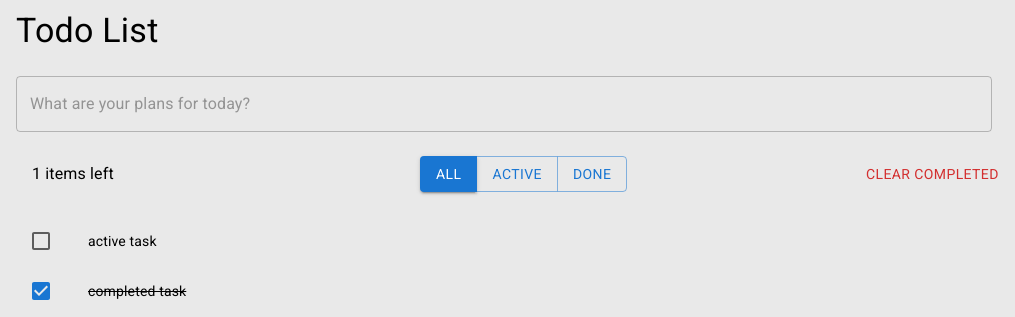
Test case: TodoList › should filter list by status
status "active" button
Click the button "active".
click(517, 174)  # box [476,156,558,192]
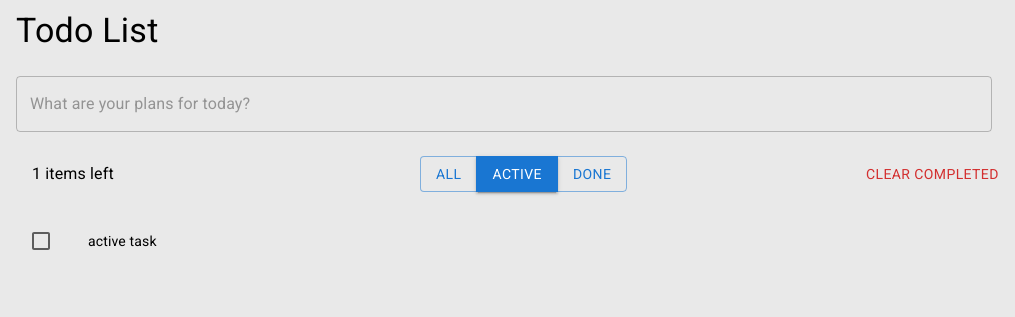
Expected: the text "active task" is shown, [88,234,157,250]
Expected: the text "completed task" is gone
status "done" button
Click the button "done".
click(592, 174)  # box [557,156,627,192]
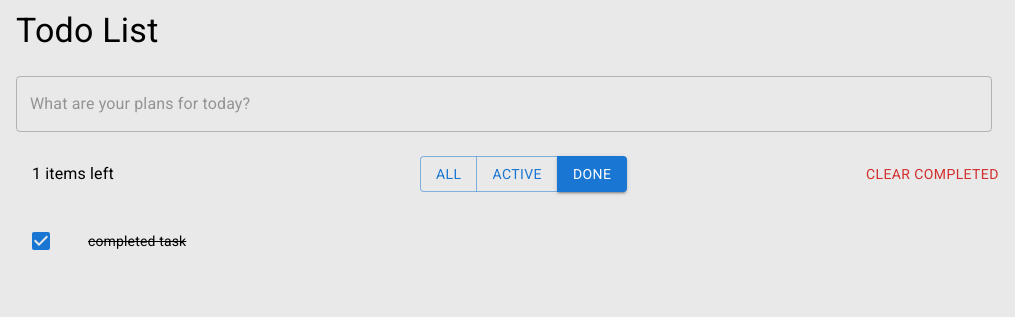
Expected: the text "completed task" is shown, [88,234,186,250]
Expected: the text "active task" is gone
status "active" button
Click the button "all".
click(449, 174)  # box [420,156,478,192]
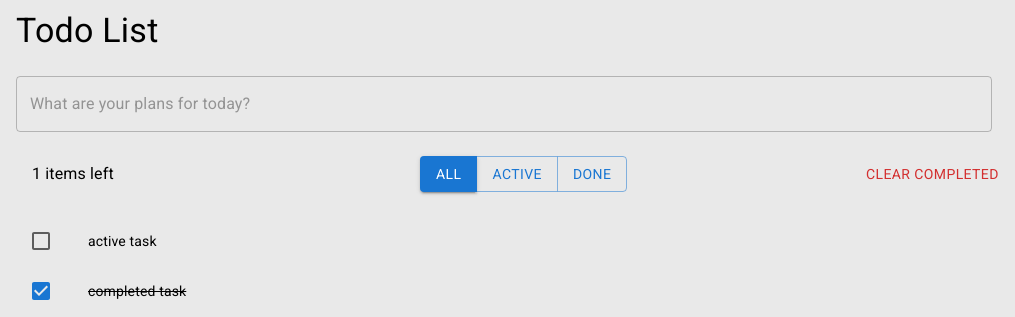
Expected: the text "completed task" is shown, [88,284,186,300]
Expected: the text "active task" is shown, [88,234,157,250]
